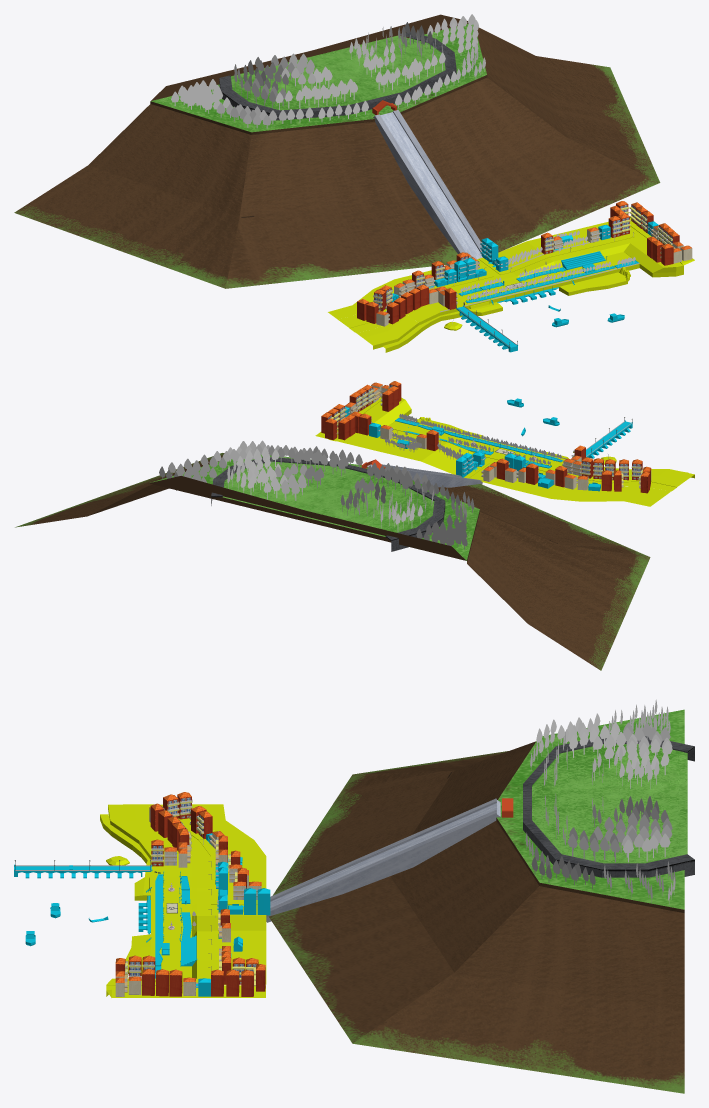
The model's file is Cais.fbx.
3 renders of one model, top to bottom at view 1: azimuth 30°, elevation 25°; view 2: azimuth 150°, elevation 25°; view 3: azimuth 270°, elevation 25°, orthographic. The views are drawn at different scales.
Parts seen in each view (by area): view 1: Montanha_Cais, Terreno_Cais, AssetsMisc_Cais, AssetsCais; view 2: Montanha_Cais, Terreno_Cais, AssetsMisc_Cais, AssetsCais; view 3: Montanha_Cais, Terreno_Cais, AssetsMisc_Cais, AssetsCais.
Boxes of the visible parts, x1=… form: Montanha_Cais: x1=14, y1=14, x2=660, y2=288; Terreno_Cais: x1=328, y1=218, x2=694, y2=352; AssetsMisc_Cais: x1=357, y1=201, x2=692, y2=347; AssetsCais: x1=391, y1=221, x2=658, y2=352; Montanha_Cais: x1=15, y1=453, x2=650, y2=670; Terreno_Cais: x1=315, y1=397, x2=694, y2=506; AssetsMisc_Cais: x1=321, y1=381, x2=651, y2=493; AssetsCais: x1=345, y1=398, x2=632, y2=491; Montanha_Cais: x1=266, y1=709, x2=694, y2=1093; Terreno_Cais: x1=100, y1=804, x2=266, y2=997; AssetsMisc_Cais: x1=14, y1=792, x2=265, y2=996; AssetsCais: x1=14, y1=833, x2=270, y2=996.
Bounding box in the file's own units: 46739 × 8202 × 36419.
